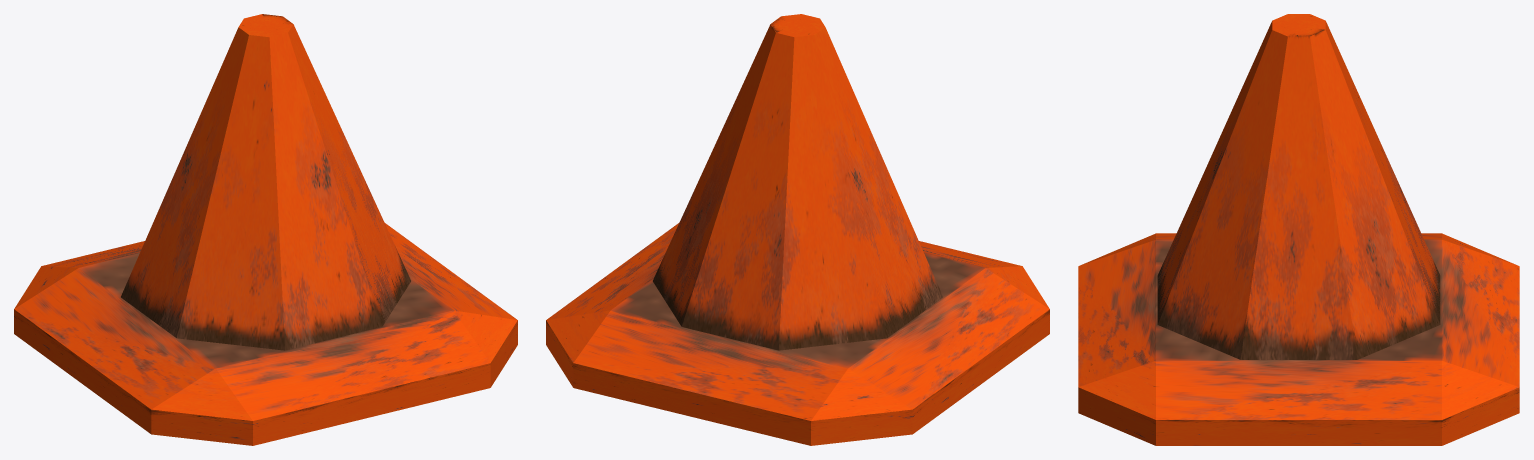
The model's file is pylon.glb.
The picture shows the model from 3 angles, left to right: view 1: azimuth 30°, elevation 25°; view 2: azimuth 150°, elevation 25°; view 3: azimuth 270°, elevation 25°; orthographic projection. The views are drawn at different scales.
Parts seen in each view (by area): view 1: pylon; view 2: pylon; view 3: pylon.
Boxes of the visible parts, box(x1,y1,x2,y2) form: pylon: box(14, 14, 517, 445); pylon: box(546, 14, 1049, 445); pylon: box(1078, 14, 1519, 445).
Bounding box in the file's own units: 1.2 × 0.9817 × 1.2.
Materials: 1 (1 with a texture image).
